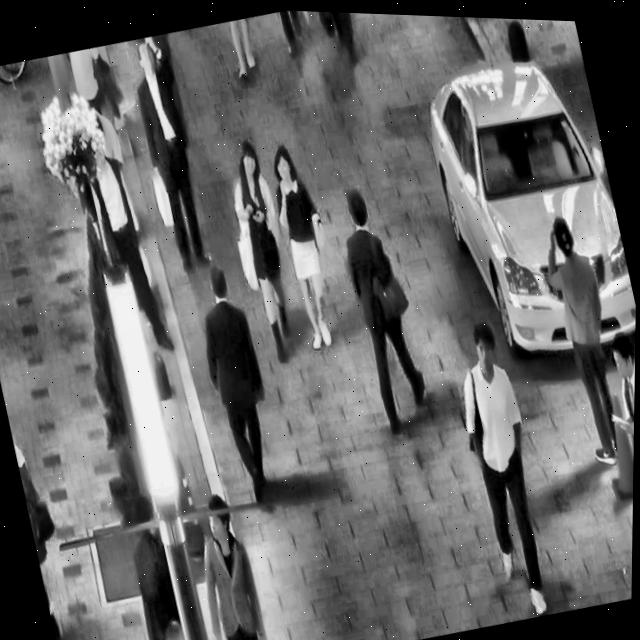light_vehicle: (405, 20, 640, 381)
